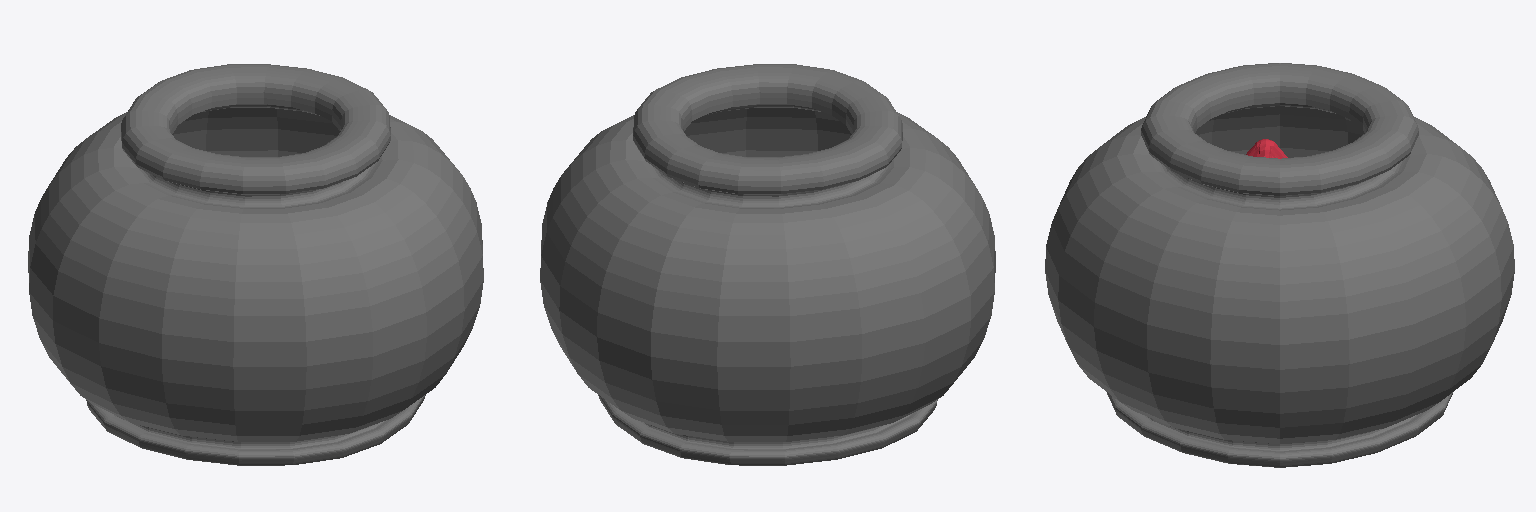
Rendered from fishbowlcastle.obj.
3 views of the same model, side by side, from view 1: azimuth 30°, elevation 25°; view 2: azimuth 150°, elevation 25°; view 3: azimuth 270°, elevation 25° (orthographic).
Visible parts, largest first — view 1: Bowl2; view 2: Bowl2; view 3: Bowl2.
Part boxes in pixels (x1,y1,x2,y2): Bowl2: (28, 64, 483, 465); Bowl2: (540, 64, 995, 465); Bowl2: (1045, 63, 1514, 467).
Size of the model in its own units: 22.23 by 14.65 by 22.23.